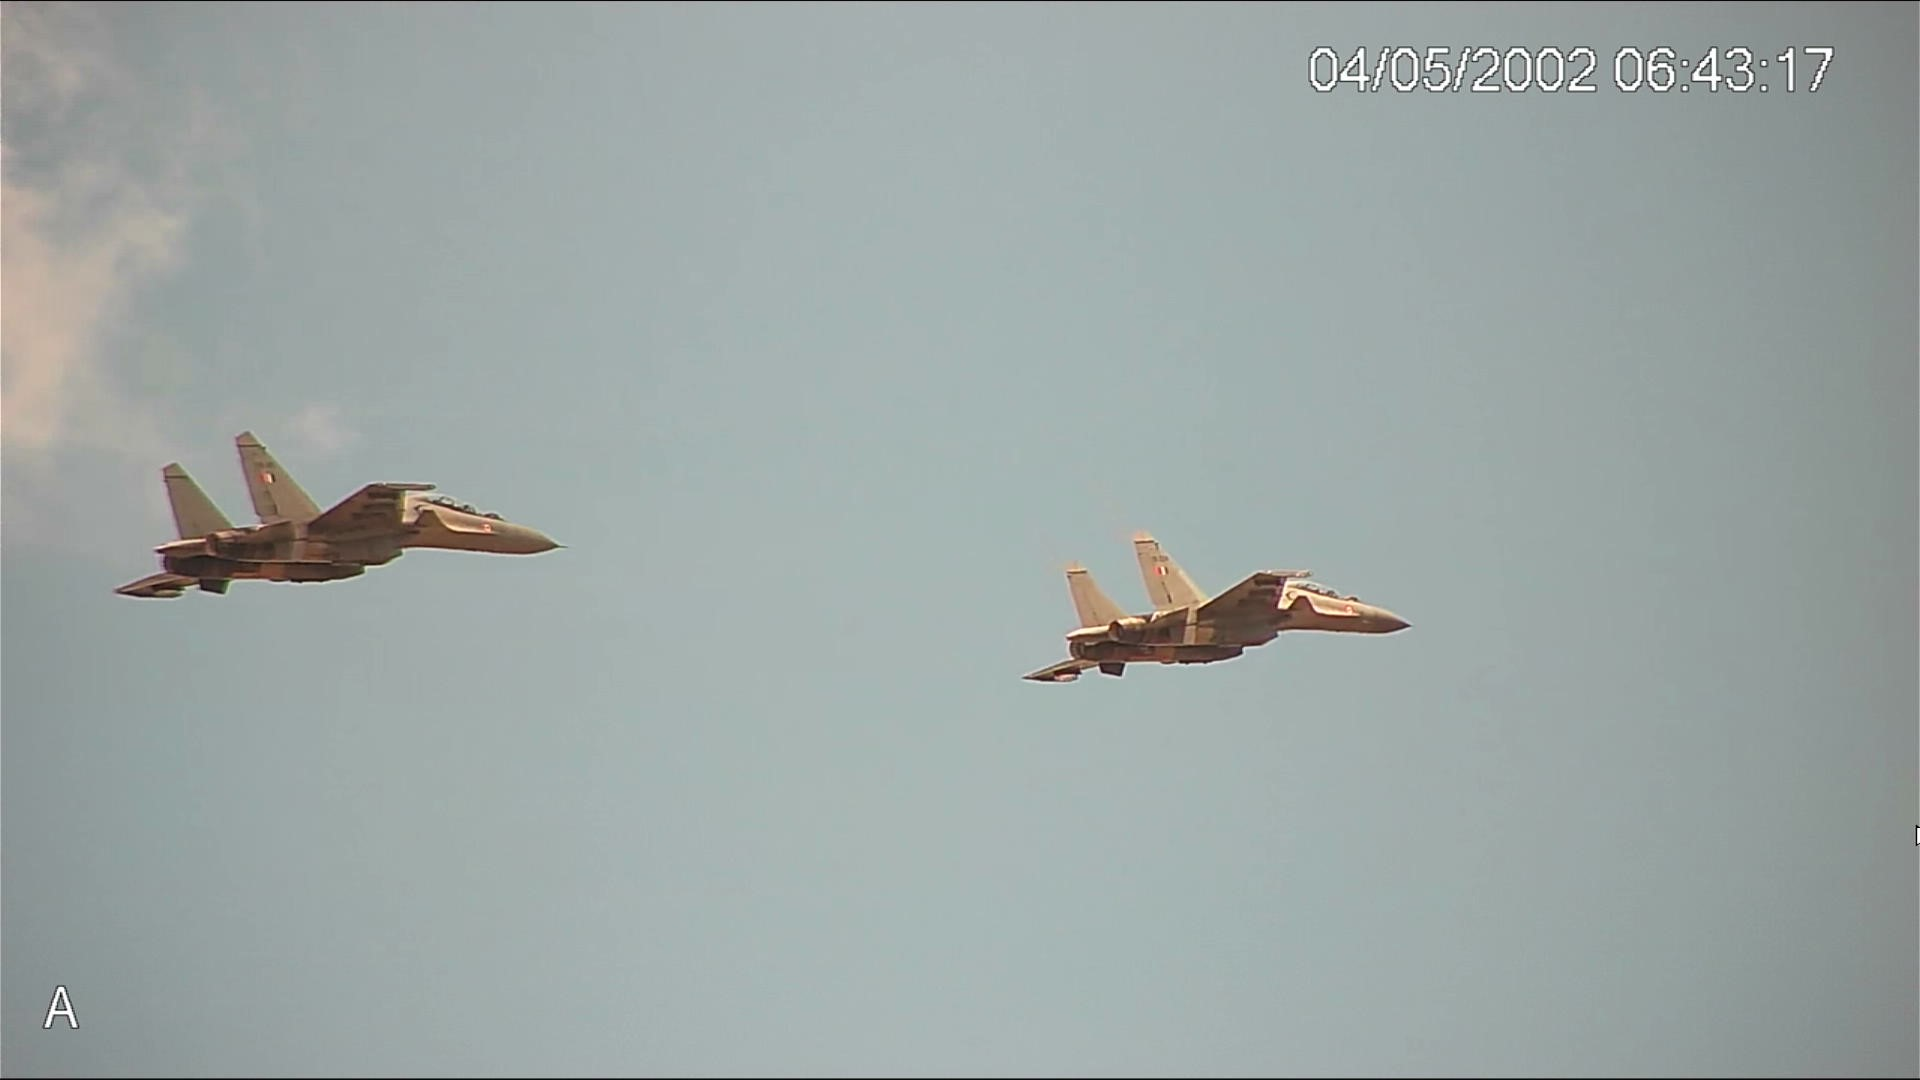SU_30: (111, 415, 564, 611), (1021, 524, 1411, 694)
